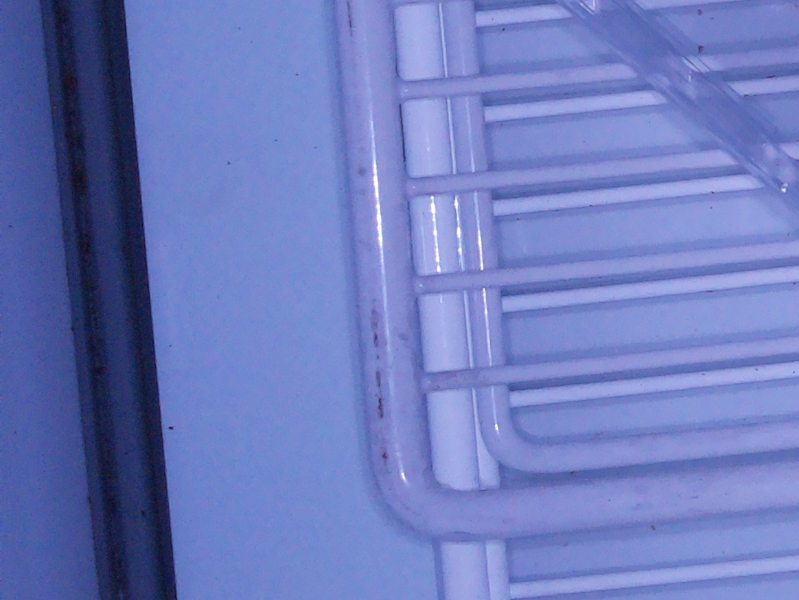plate: (560, 1, 799, 201)
